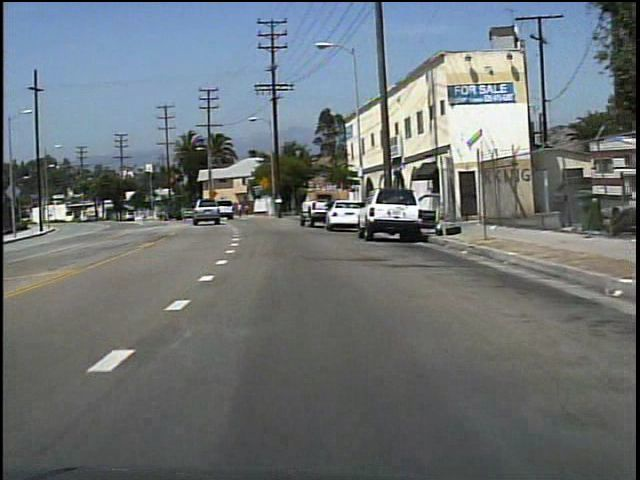person: (323, 194, 340, 230), (237, 199, 245, 220), (244, 202, 253, 220)
